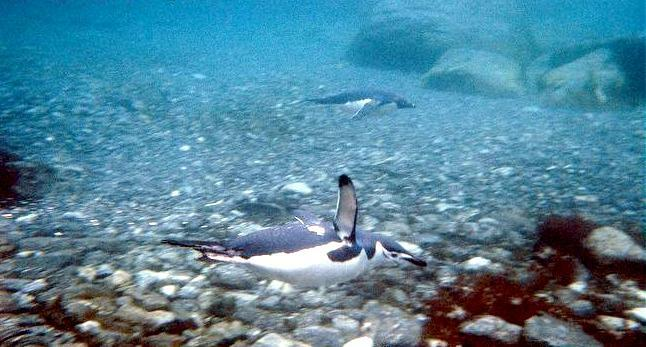chinstrap: (171, 176, 458, 324)
